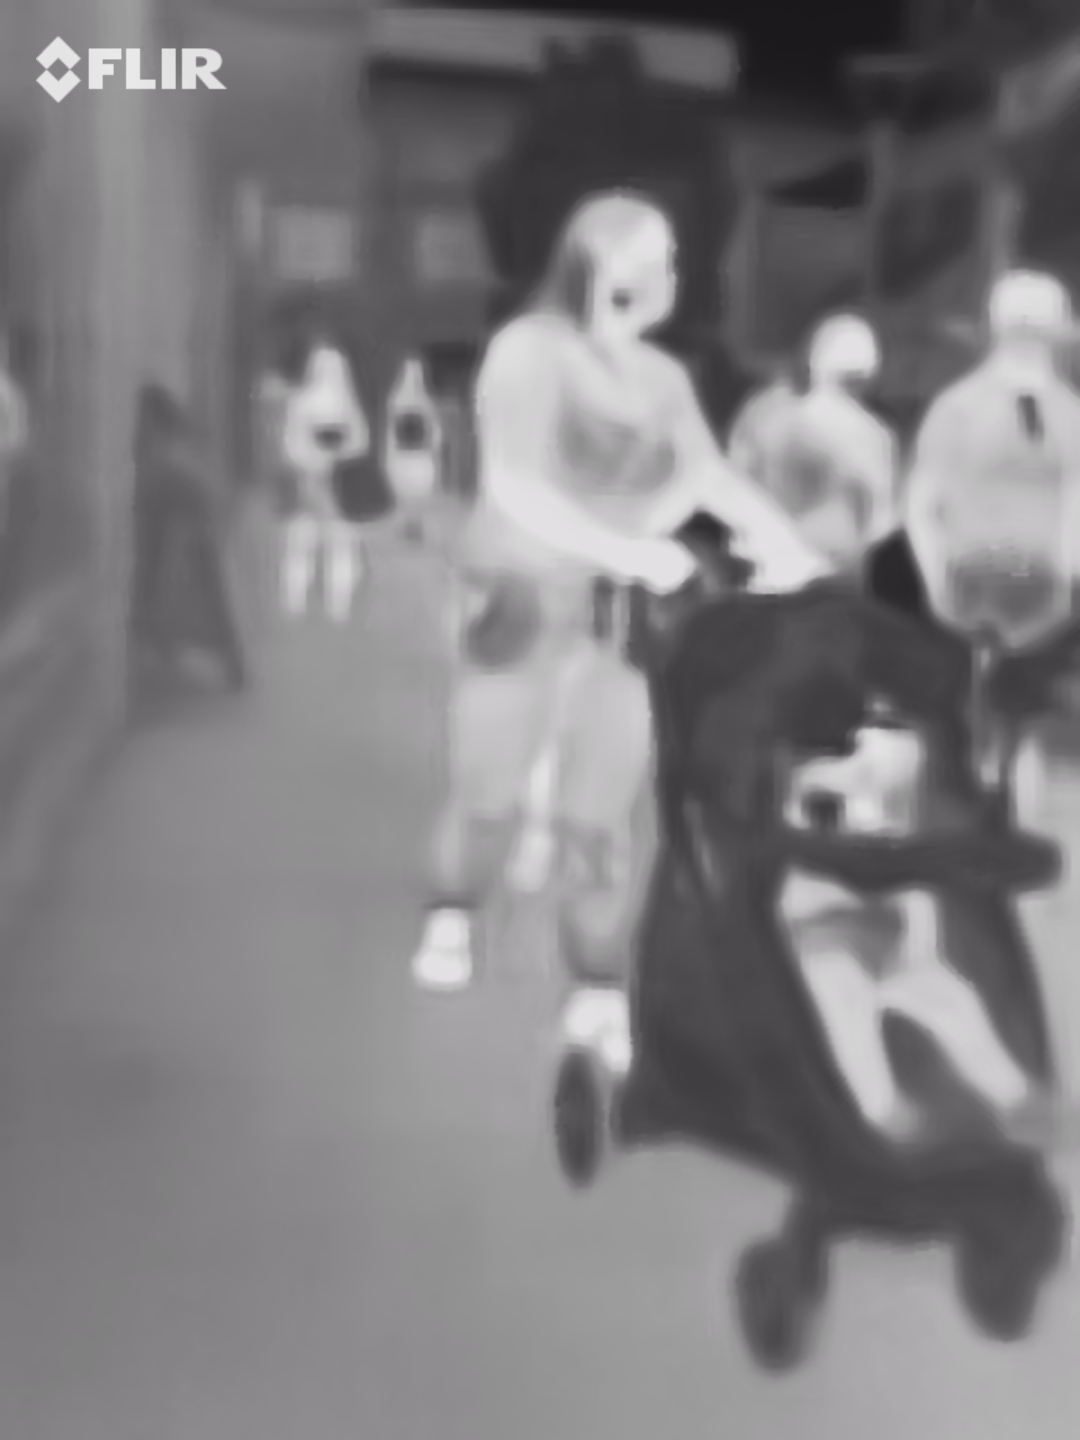head: (563, 189, 683, 330)
